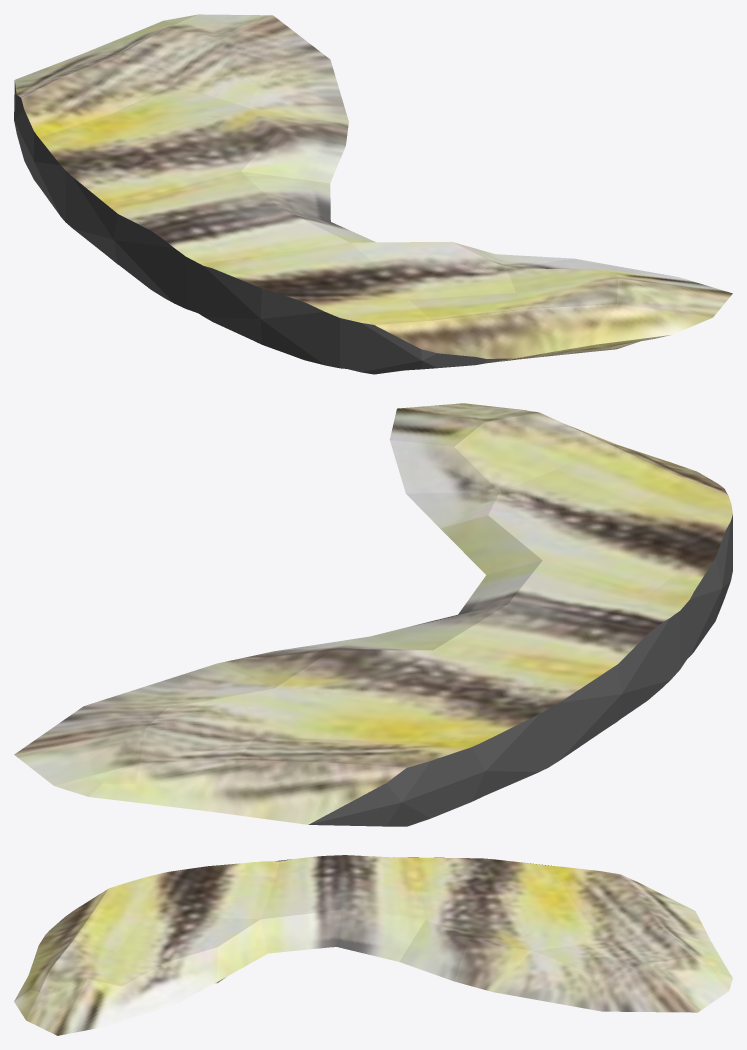
Rendered from link_15_composite.obj.
The picture shows the model from 3 angles, top to bottom: view 1: azimuth 30°, elevation 25°; view 2: azimuth 150°, elevation 25°; view 3: azimuth 270°, elevation 25°; orthographic projection. The views are drawn at different scales.
Bounding box in the file's own units: 0.00213 × 0.000294 × 0.00404.
1 material, 1 textured.
